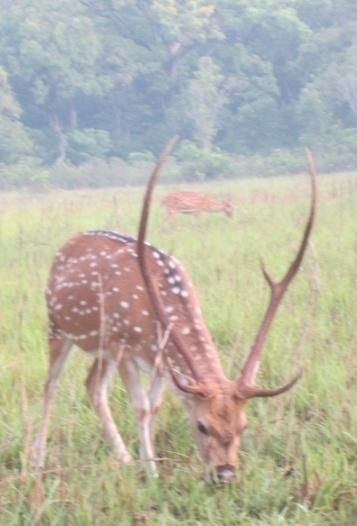Deer: (32, 140, 316, 481)
